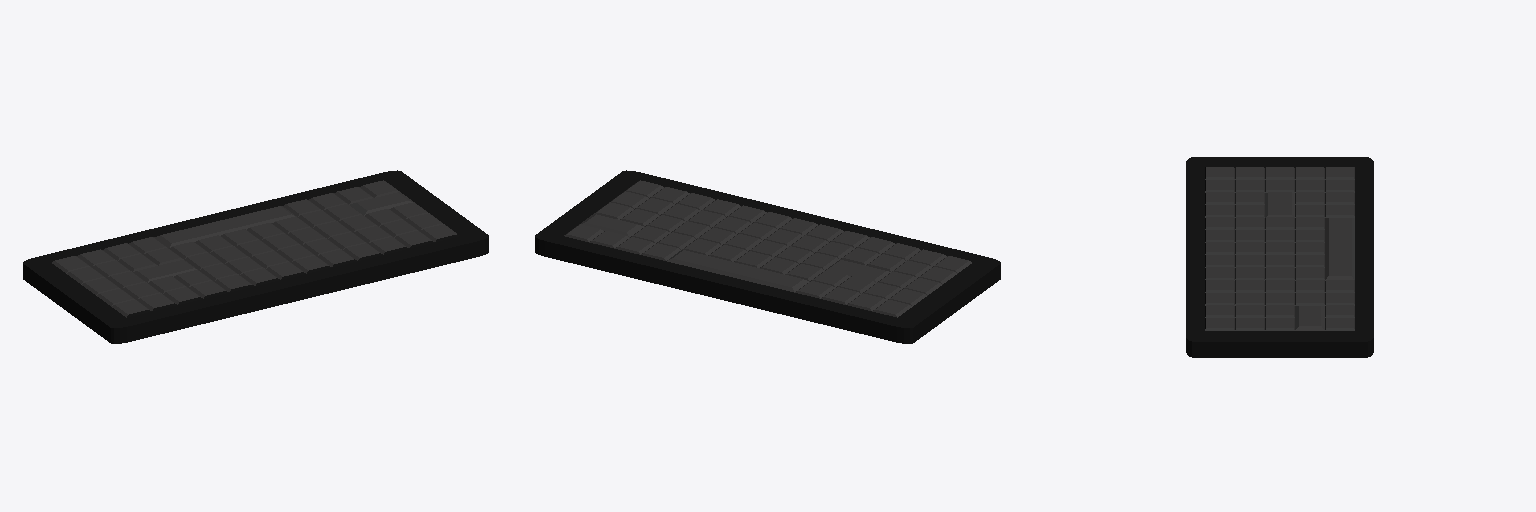
Rendered from Keyboard.obj.
3 views of the same model, side by side, from view 1: azimuth 30°, elevation 25°; view 2: azimuth 150°, elevation 25°; view 3: azimuth 270°, elevation 25° (orthographic).
Parts seen in each view (by area): view 1: Keyboard_Cube.036; view 2: Keyboard_Cube.036; view 3: Keyboard_Cube.036.
Boxes of the visible parts, <box> form: Keyboard_Cube.036: <box>23,170,488,343</box>; Keyboard_Cube.036: <box>535,170,1000,343</box>; Keyboard_Cube.036: <box>1186,157,1373,357</box>.
Bounding box in the file's own units: 0.947 × 0.0443 × 0.4082.